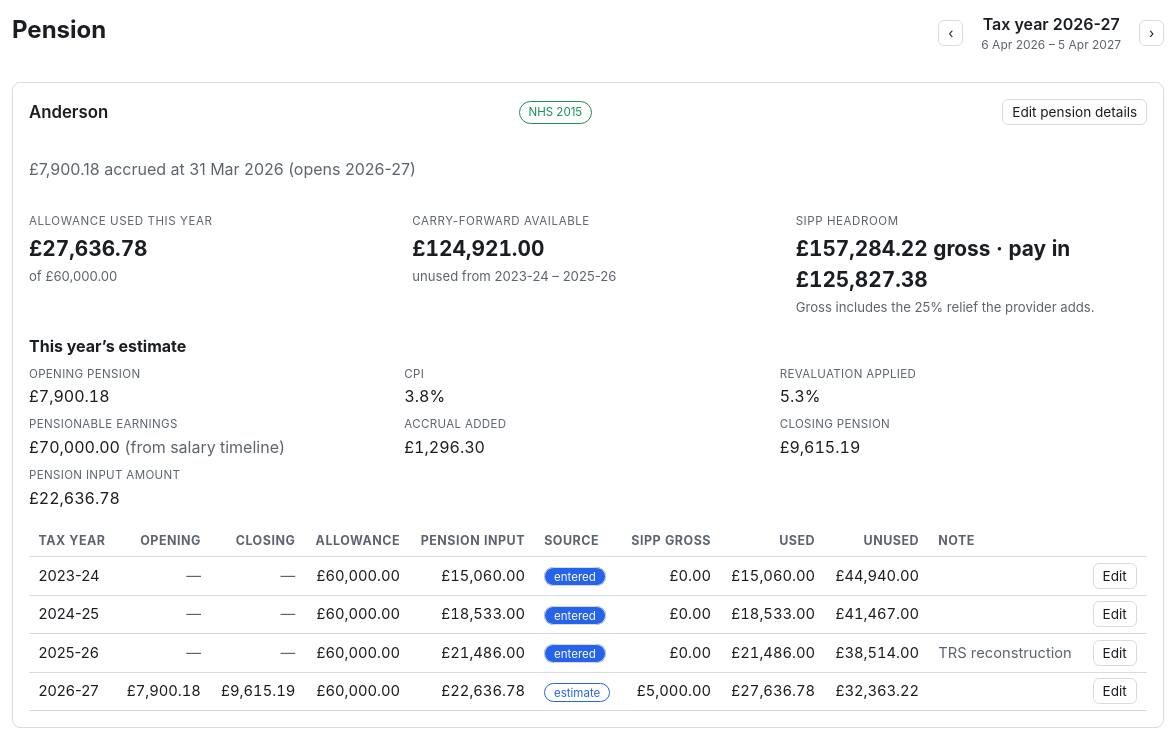
Test case: Pension tab › steps between tax years
The width and height of the screenshot is (1176, 732).
Check: the text "Anderson" is shown, box [29,100,108,125]
Click the button named "Previous tax year" at (951, 33), box [938,20,963,46]
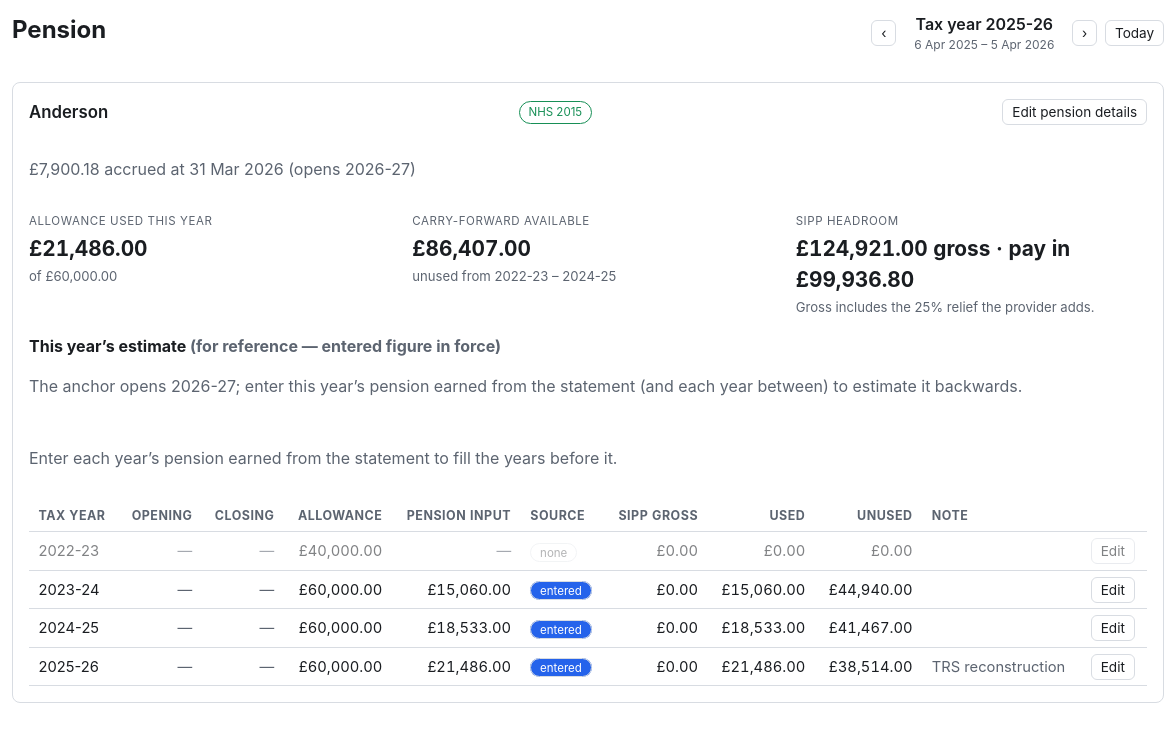
Check: the text "Tax year 2025-26 6 Apr 2025 – 5 Apr 2026" is shown, box [904,12,1064,54]
Check: the text "£21,486.00" below "Allowance used this year" is shown, box [29,236,148,261]
